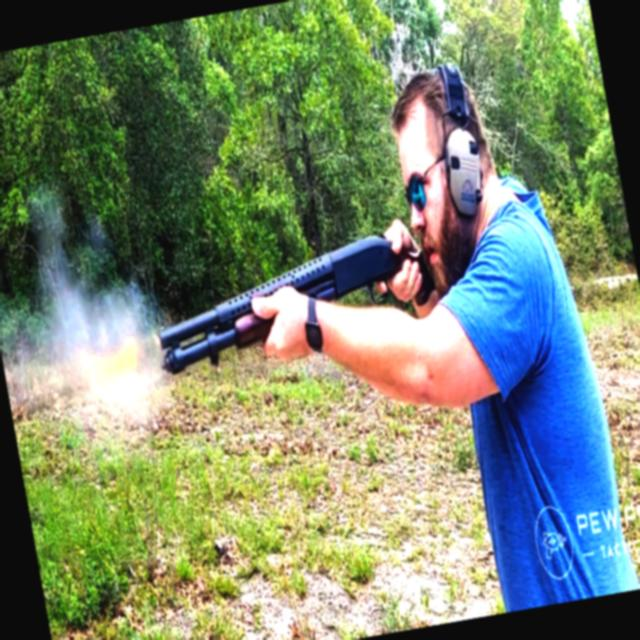shotgun: (134, 210, 467, 440)
